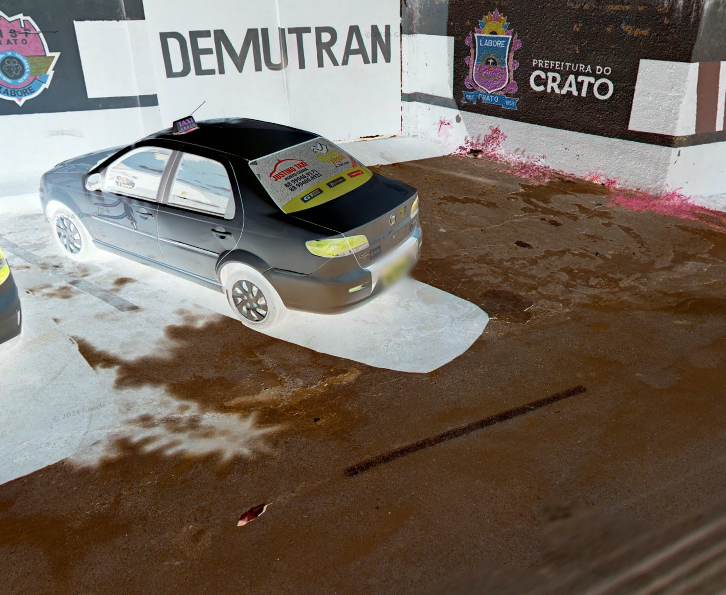car: (34, 98, 429, 348)
